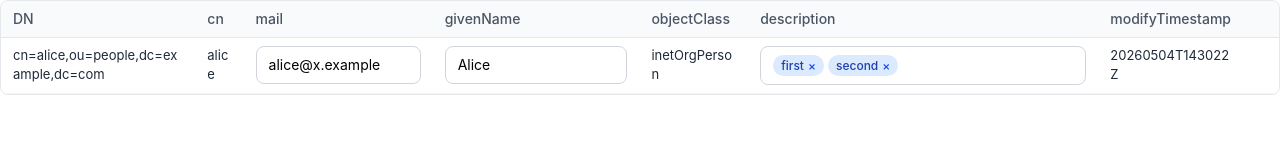
Scenario: EditableResultsTable — save-on-row-blur (Task 6) › attribute-scoped server error renders under the cell and preserves dirty state
Replace the text in the field named "mail for cn=alice,ou=people,dc=example,dc=com" with "not-an-email" at coordinates (338, 65), box 256,46 -> 421,84
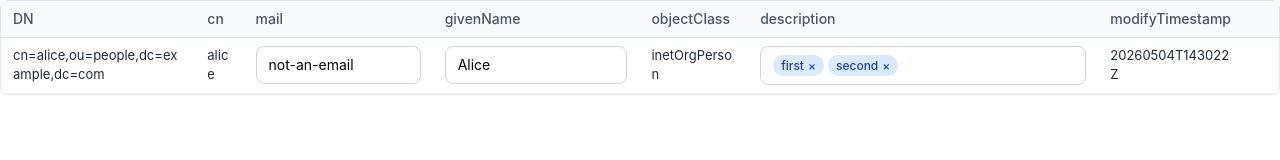
Leave the field named "mail for cn=alice,ou=people,dc=example,dc=com", box 256,46 -> 421,84
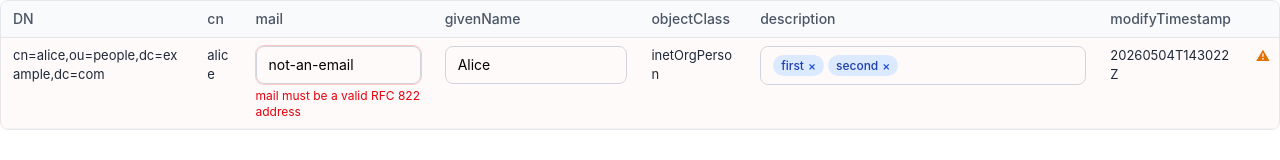
Expected: the text "mail must be a valid RFC 822 address" is shown, 256,88 -> 421,120
